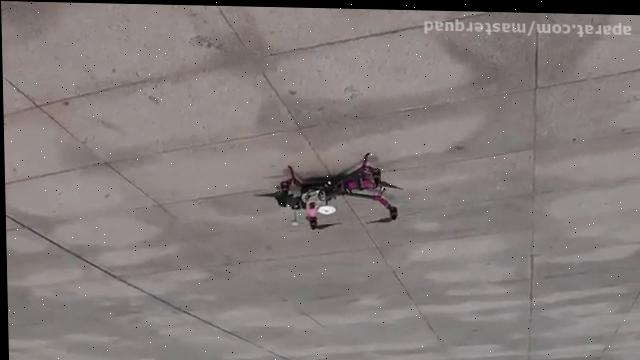drone: (248, 147, 424, 236)
